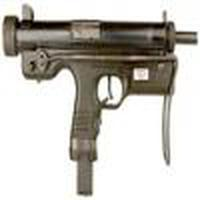gun: (3, 13, 200, 125)
